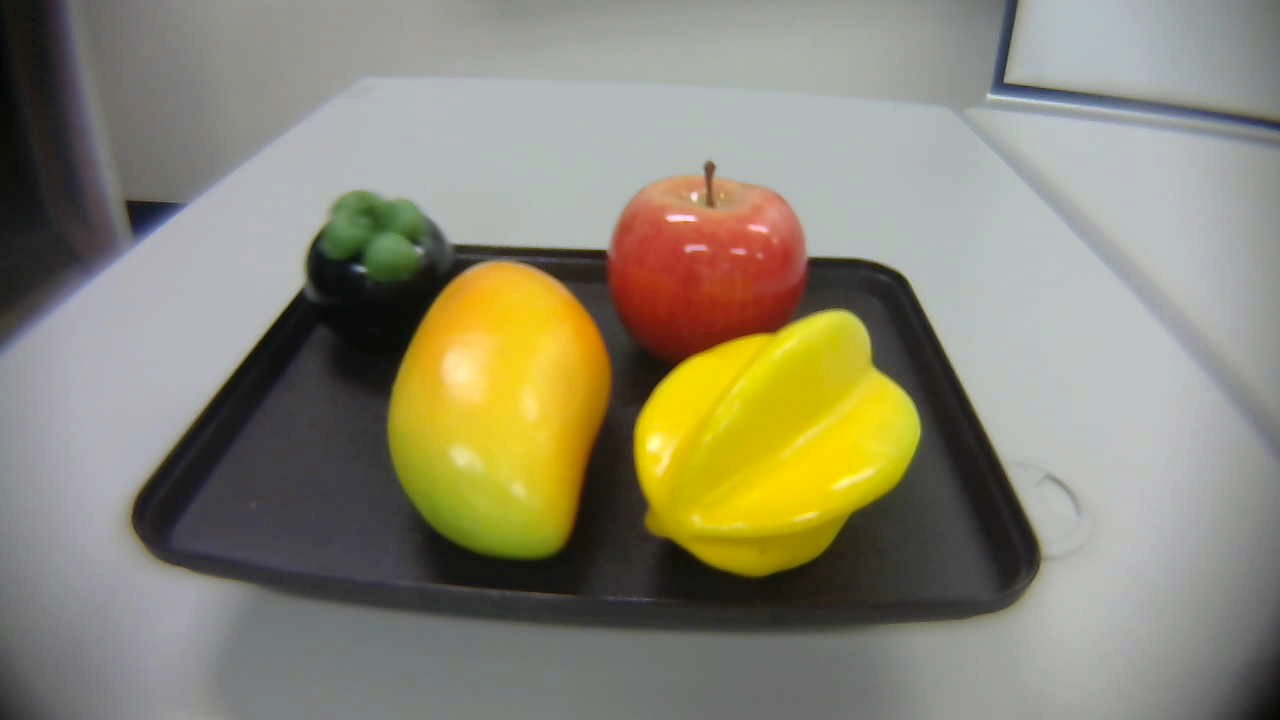mangosteen: (290, 178, 477, 353)
red apple: (593, 154, 827, 383)
star fruit: (624, 300, 932, 590)
yellow mango: (372, 248, 610, 551)
